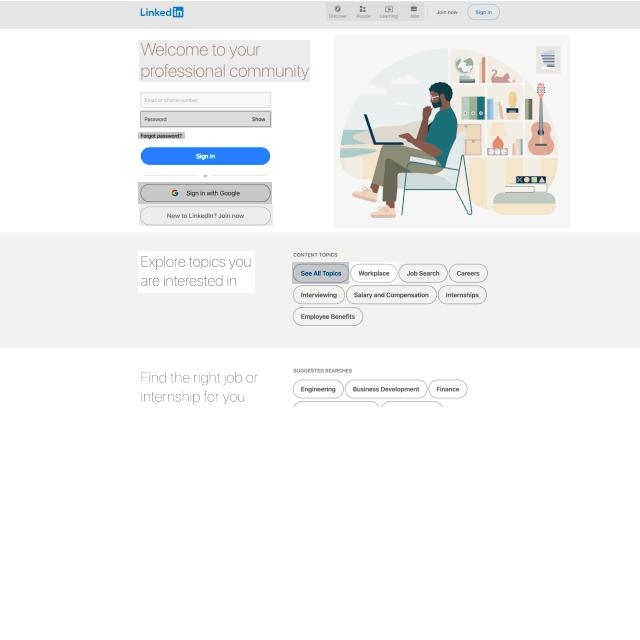CheckBox: (139, 204, 273, 227), (138, 182, 272, 204), (140, 146, 274, 167), (292, 262, 349, 284), (350, 262, 398, 284), (138, 132, 185, 139)
CheckedTextView: (140, 110, 272, 128), (140, 92, 272, 108)
bag: (0, 1, 640, 29)
breadcrumbs: (138, 367, 261, 408), (138, 251, 255, 293)
content: (334, 35, 570, 228)
date picker: (137, 3, 191, 21)
decoration: (326, 2, 424, 21)
image: (139, 41, 310, 82)
